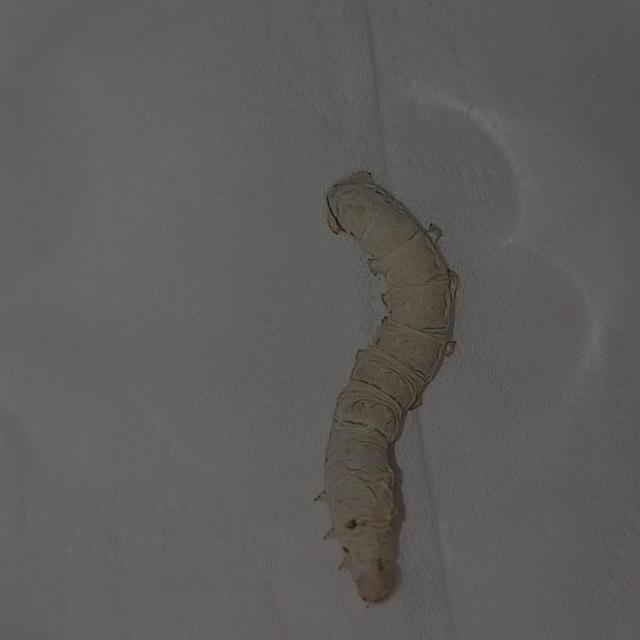Healthy: (290, 160, 468, 604)
